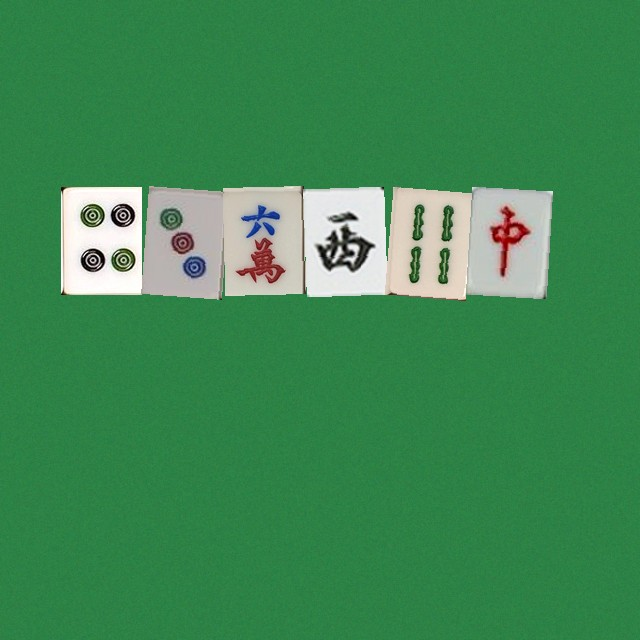tile: (60, 186, 141, 294), (141, 186, 222, 294), (222, 186, 303, 294), (303, 186, 384, 294), (384, 186, 465, 294), (465, 186, 546, 294)
